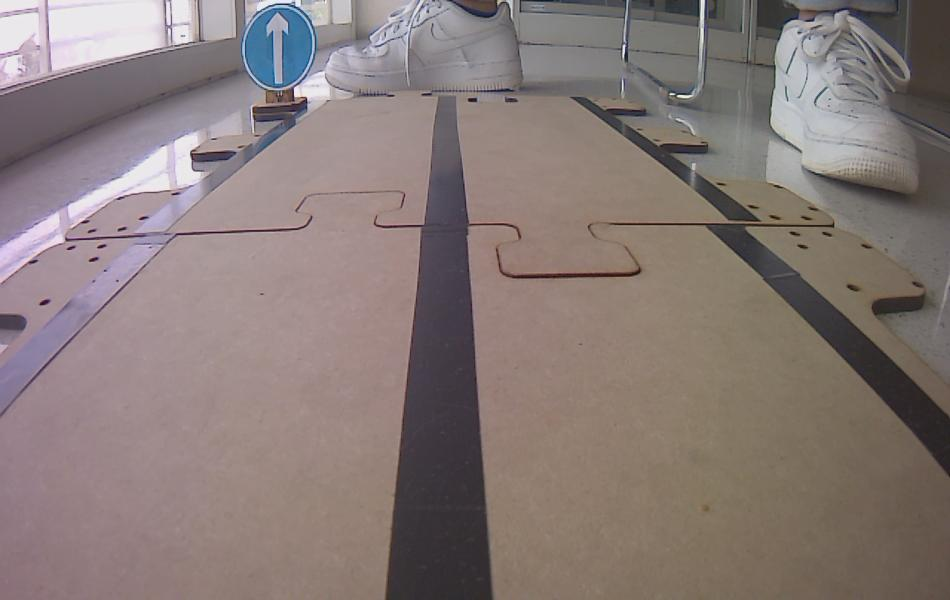straight: (242, 4, 317, 89)
